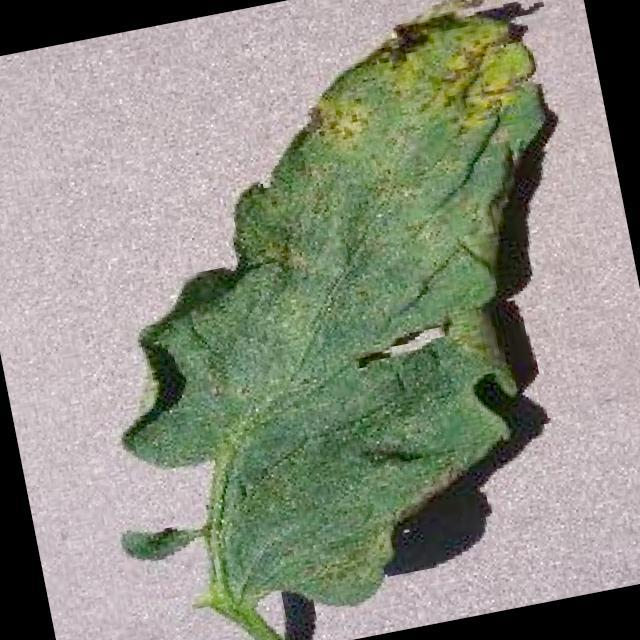Tomato Septoria spot leaf: (30, 0, 634, 640)
